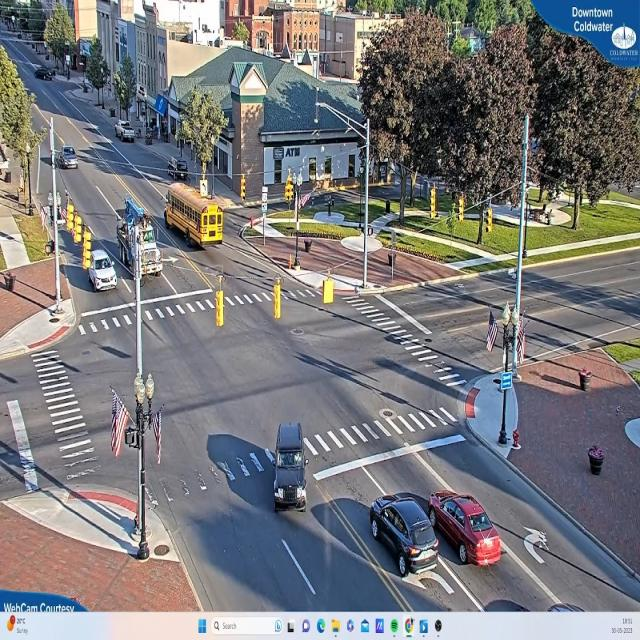bus: (162, 177, 232, 250)
car: (369, 492, 442, 578), (426, 491, 506, 568), (272, 425, 307, 511), (87, 250, 115, 290), (118, 120, 138, 142), (59, 148, 78, 170), (61, 145, 76, 162)
truck: (115, 199, 162, 284)
